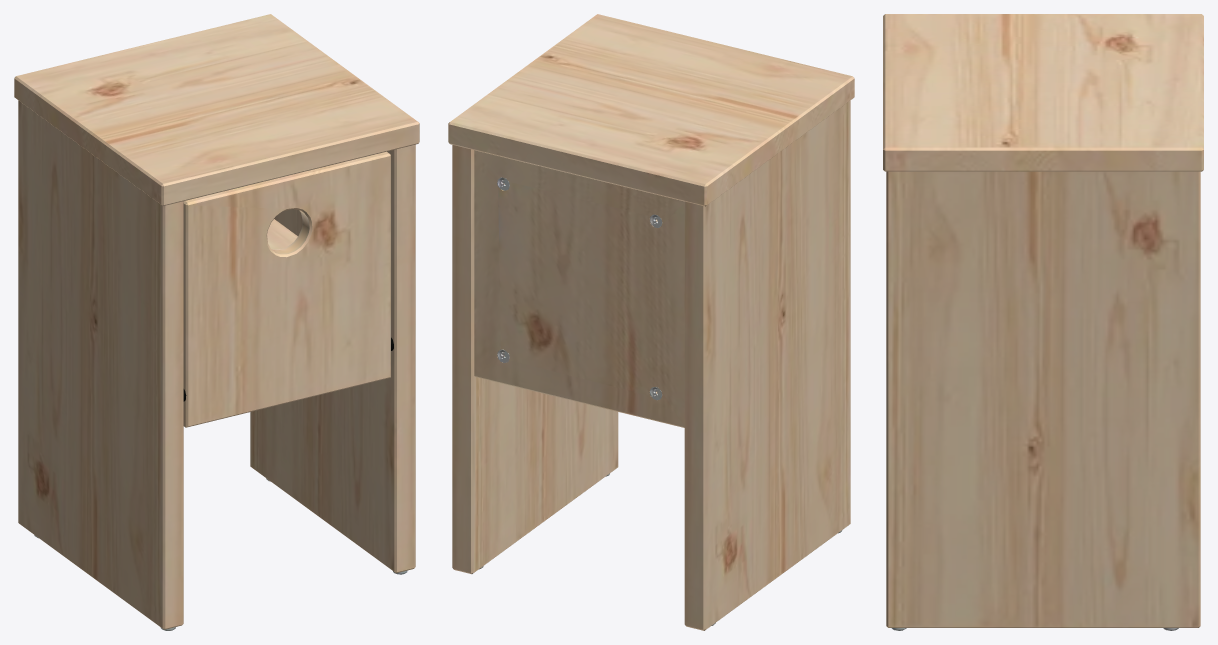
The model's file is LB-LR-WIFI-01.glb.
The picture shows the model from 3 angles, left to right: view 1: azimuth 30°, elevation 25°; view 2: azimuth 150°, elevation 25°; view 3: azimuth 270°, elevation 25°; orthographic projection. The views are drawn at different scales.
Parts seen in each view (by area): view 1: ASY_ART_60619942_S01_NV01; view 2: ASY_ART_60619942_S01_NV01; view 3: ASY_ART_60619942_S01_NV01.
Part boxes in pixels (<box>): ASY_ART_60619942_S01_NV01: <box>14,14,419,630</box>; ASY_ART_60619942_S01_NV01: <box>448,14,854,630</box>; ASY_ART_60619942_S01_NV01: <box>883,14,1203,630</box>.
Size of the model in its own units: 0.302 by 0.505 by 0.302.
1 material, 1 textured.
